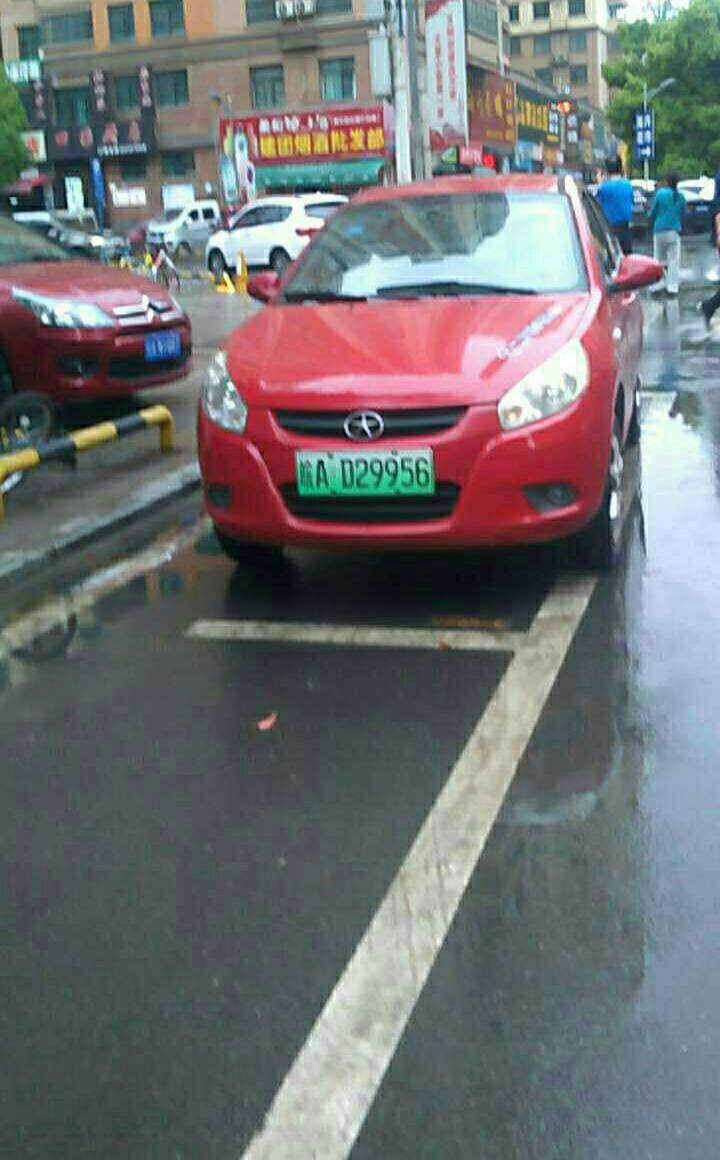car: (288, 450, 432, 497)
